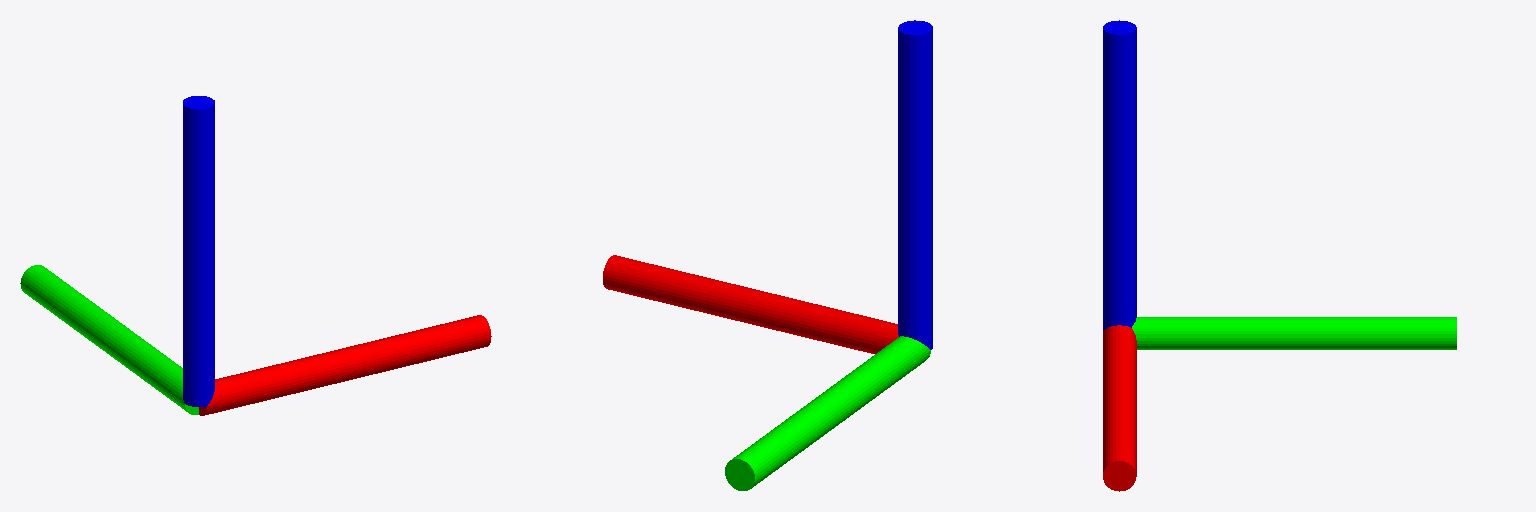
robot.urdf — coordinate_frame:
<?xml version="1.0"?>
<robot name="coordinate_frame">

  <!-- X axis (Red) -->
  <link name="x_axis">
    <visual>
      <origin xyz="0.05 0 0" rpy="0 1.5708 0" />
      <geometry>
        <cylinder length="0.1" radius="0.005" />
      </geometry>
      <material name="red">
        <color rgba="1 0 0 1" />
      </material>
    </visual>
  </link>

  <!-- Y axis (Green) -->
  <link name="y_axis">
    <visual>
      <origin xyz="0 0.05 0" rpy="-1.5708 0 0" />
      <geometry>
        <cylinder length="0.1" radius="0.005" />
      </geometry>
      <material name="green">
        <color rgba="0 1 0 1" />
      </material>
    </visual>
  </link>

  <!-- Z axis (Blue) -->
  <link name="z_axis">
    <visual>
      <origin xyz="0 0 0.05" rpy="0 0 0" />
      <geometry>
        <cylinder length="0.1" radius="0.005" />
      </geometry>
      <material name="blue">
        <color rgba="0 0 1 1" />
      </material>
    </visual>
  </link>

  <!-- Base link -->
  <link name="base_link" />

  <joint name="base_to_x" type="fixed">
    <parent link="base_link" />
    <child link="x_axis" />
    <origin xyz="0 0 0" rpy="0 0 0" />
  </joint>

  <joint name="base_to_y" type="fixed">
    <parent link="base_link" />
    <child link="y_axis" />
    <origin xyz="0 0 0" rpy="0 0 0" />
  </joint>

  <joint name="base_to_z" type="fixed">
    <parent link="base_link" />
    <child link="z_axis" />
    <origin xyz="0 0 0" rpy="0 0 0" />
  </joint>

</robot>

--- Render facts (derived) ---
3 views of the same robot in one strip: view 1: azimuth 30°, elevation 25°; view 2: azimuth 150°, elevation 25°; view 3: azimuth 270°, elevation 25° (orthographic).
Model coordinate_frame with 4 links and 3 joints (3 fixed), rooted at base_link, posed every joint at zero.
Visible links, largest first — view 1: z_axis, x_axis, y_axis; view 2: z_axis, x_axis, y_axis; view 3: y_axis, z_axis, x_axis.
Boxes of the visible links, x1,y1,x2,y2 form: z_axis: (183,96,214,406); x_axis: (199,315,491,415); y_axis: (20,265,198,414); z_axis: (898,20,932,349); x_axis: (603,255,898,353); y_axis: (725,336,930,490); y_axis: (1132,317,1456,349); z_axis: (1103,20,1136,330); x_axis: (1103,325,1136,491).
Bounding box of the posed robot: 0.105 × 0.105 × 0.105 m (x, y, z).
Geometry: primitives only (box / cylinder / sphere), no mesh files.